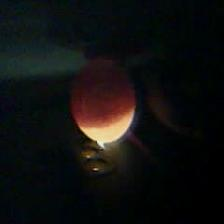fertile: (69, 58, 135, 144)
